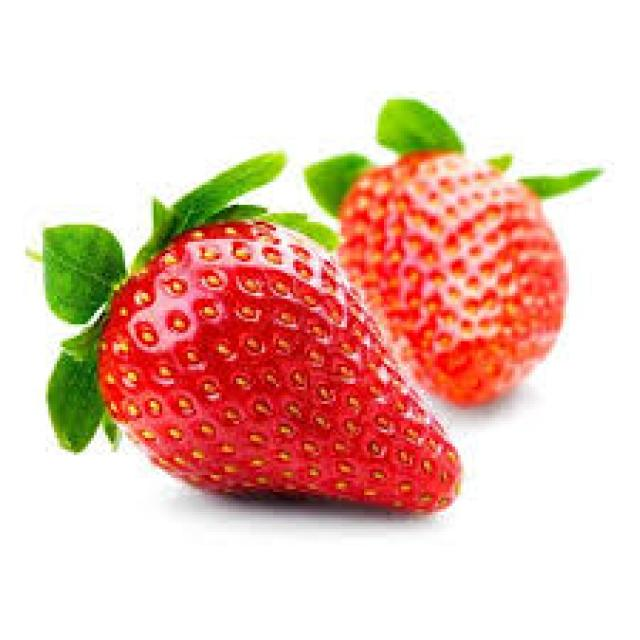Strawberries: (102, 223, 455, 517), (353, 165, 575, 397)
